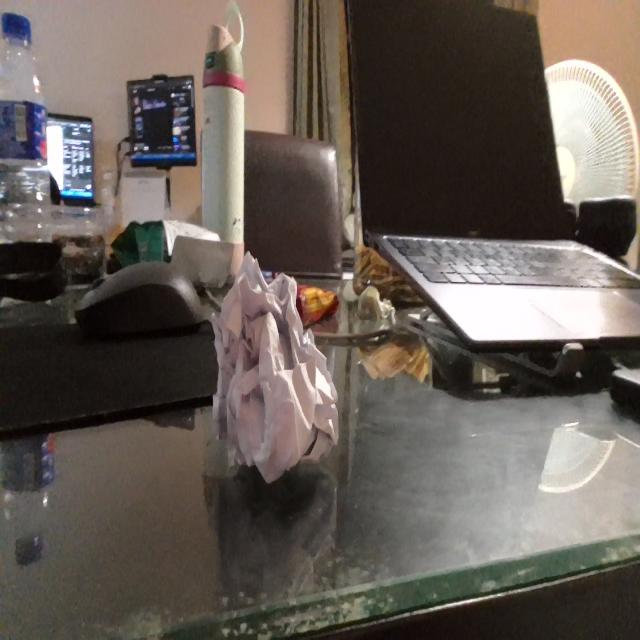crumpled_paper: (210, 248, 342, 492)
